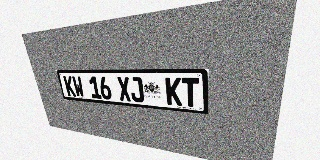1: (88, 76, 102, 99)
6: (98, 76, 112, 100)
J: (129, 77, 144, 103)
K: (165, 77, 182, 106), (63, 76, 76, 97)
T: (182, 78, 199, 107)
W: (71, 76, 85, 97)
X: (116, 77, 132, 101)
